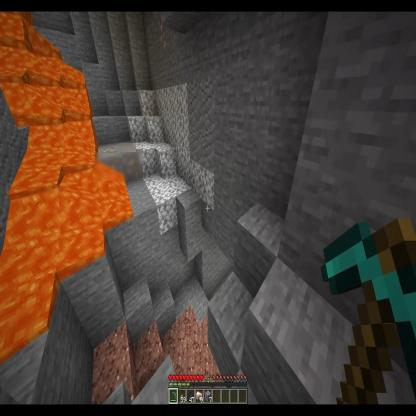iron ore: (95, 153, 122, 181), (120, 150, 143, 181), (157, 16, 168, 56), (119, 143, 136, 152), (97, 147, 116, 154)
